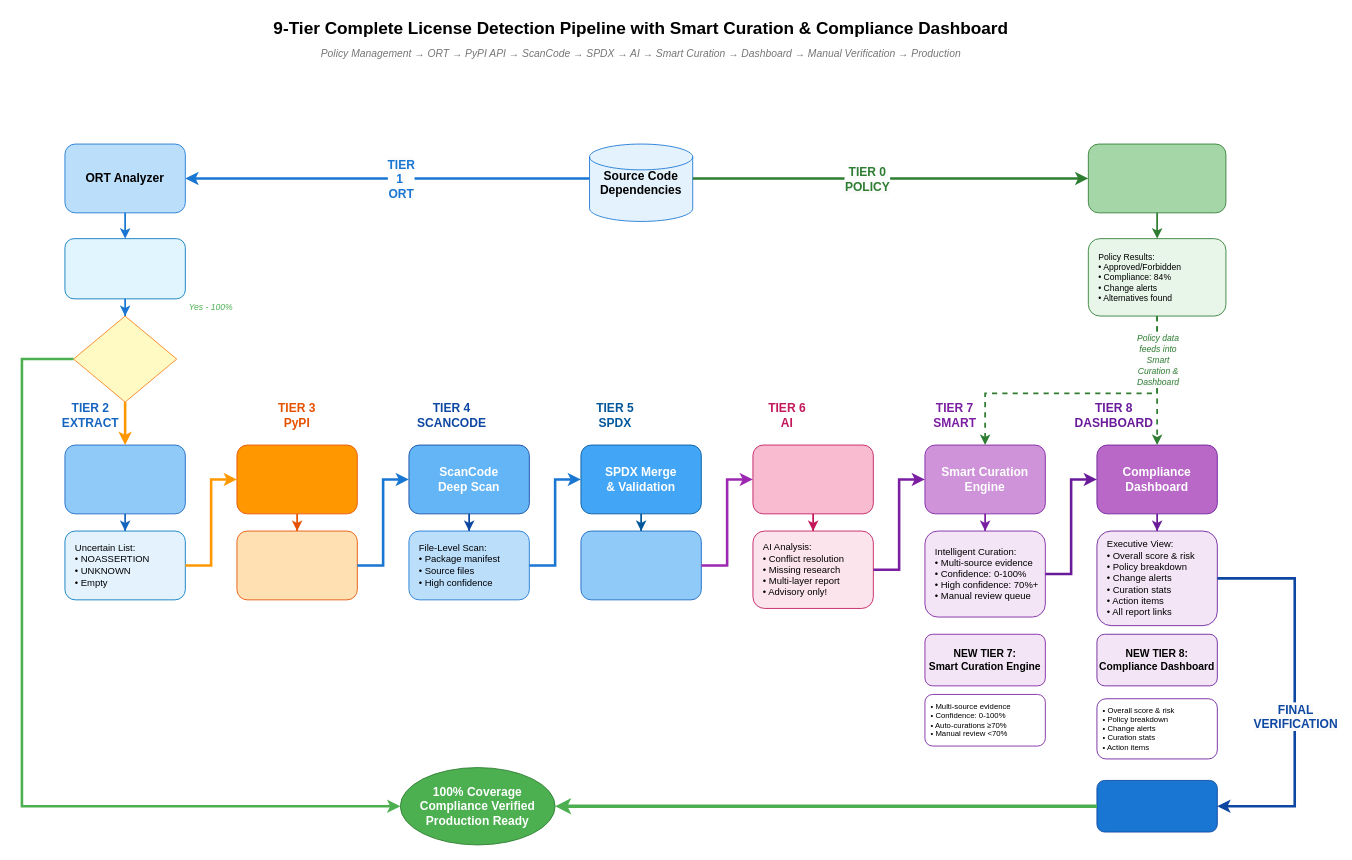
Some shapes in this 1352 by 860 pixel diagram are drawn without their labels. The centre of each missing label's shape, as x and y in pixels:
"AI Curation (5 Reports)" goes at point (812, 479).
"All Licenses Found?" goes at point (125, 358).
"Enhanced SPDX: • ORT base • + PyPI licenses • + ScanCode ≥80%" goes at point (640, 565).
"Extract Uncertain Packages" goes at point (124, 479).
"Fast API Results: • License field • Expression • Classifiers" goes at point (296, 565).
"Manual Verification" goes at point (1156, 806).
"Package Metadata Declared Licenses From Manifests" goes at point (124, 268).
"Policy Check Change Monitor Find Alternatives" goes at point (1156, 178).
"PyPI API Fetch" goes at point (296, 479).
